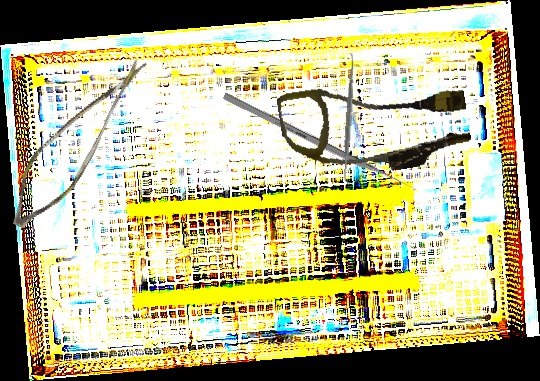Cannula: (275, 66, 475, 187)
Micro Scissor: (1, 35, 148, 246)
Pusher: (222, 92, 418, 194)
Spatula Surgical: (337, 52, 361, 186)
